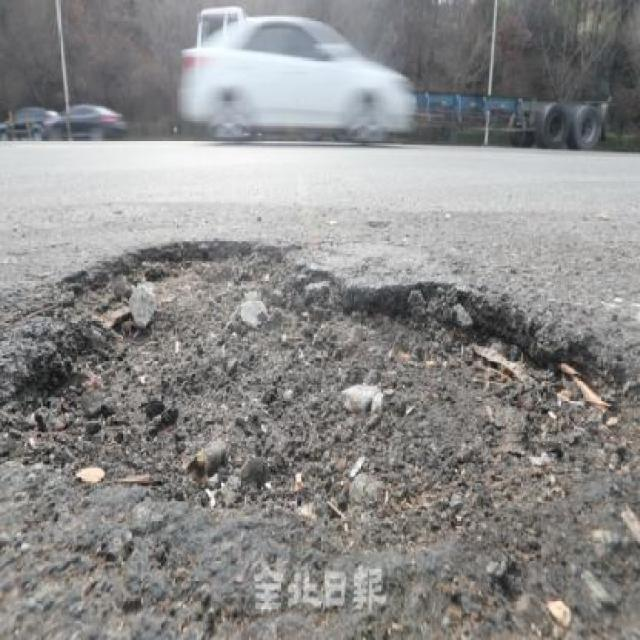Buraco: (0, 237, 638, 559)
